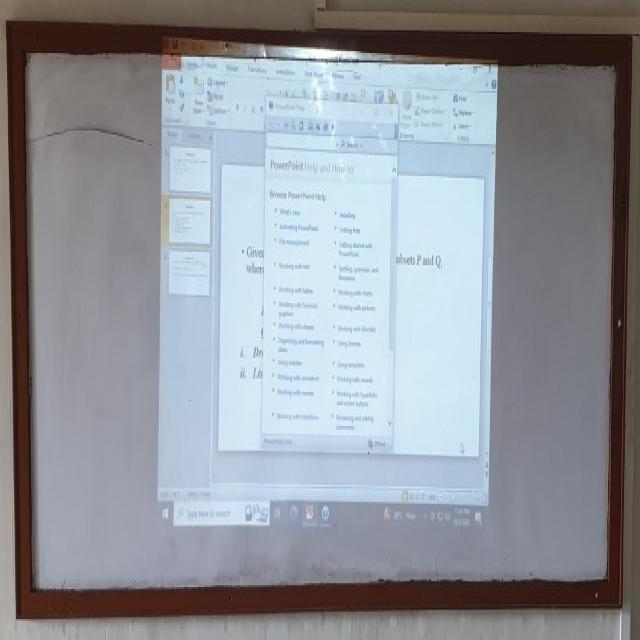Slide: (155, 34, 499, 544)
White-board: (16, 35, 624, 606)
